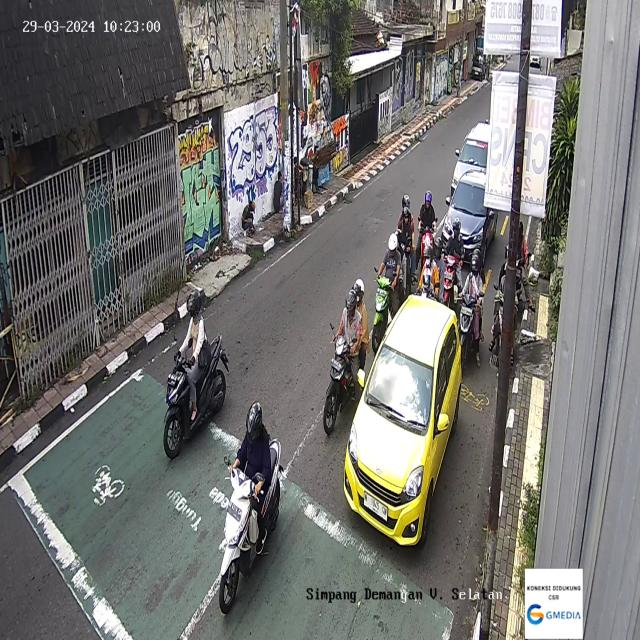car: (343, 292, 462, 548), (442, 170, 498, 268), (451, 122, 491, 198)
motorcycle: (218, 400, 283, 614), (164, 286, 231, 459), (323, 276, 368, 436), (372, 228, 408, 355), (457, 245, 489, 368), (395, 192, 416, 296), (440, 217, 464, 307), (418, 186, 437, 270)
